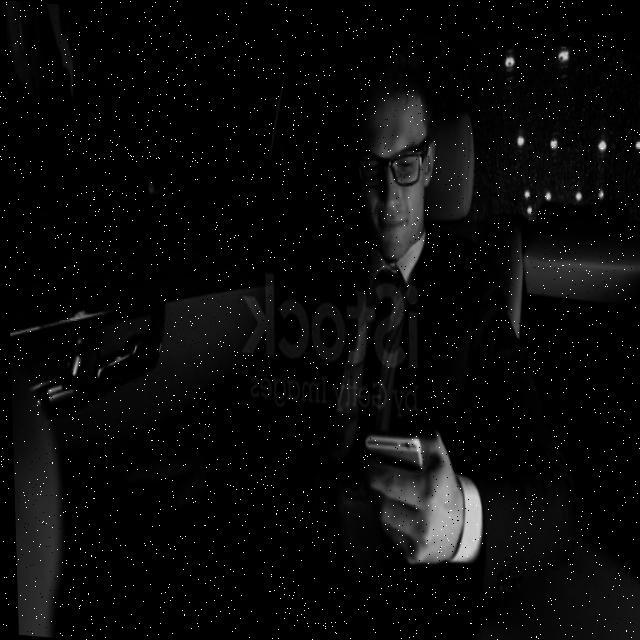PhoneCall: (359, 426, 425, 532)
